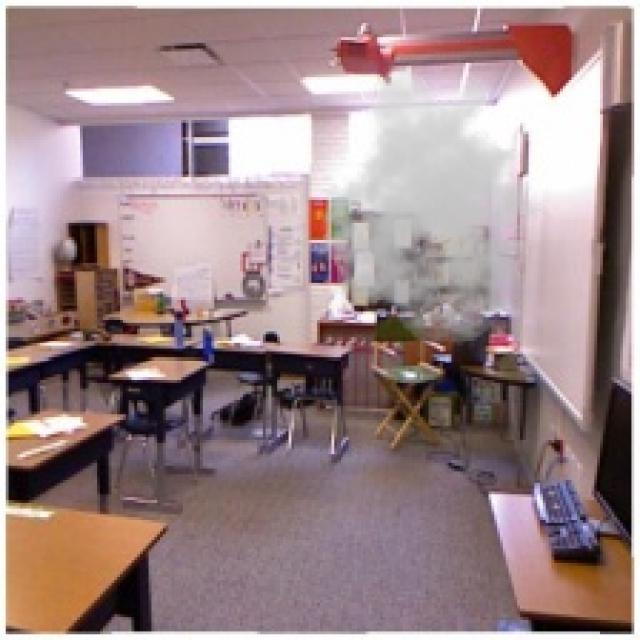smoke: (309, 66, 557, 346)
